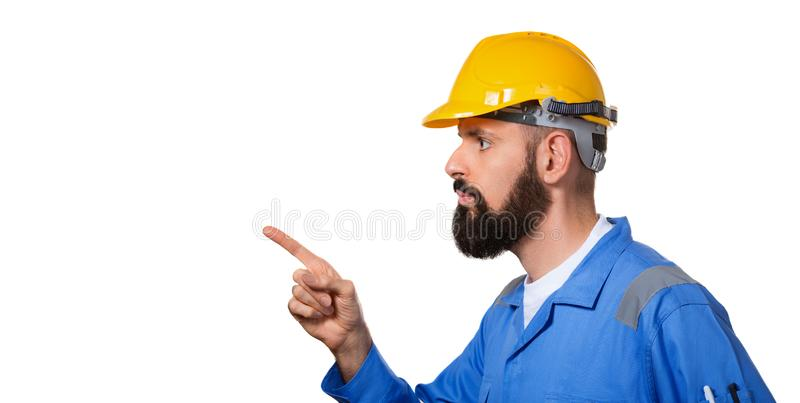casco: (421, 30, 619, 174)
